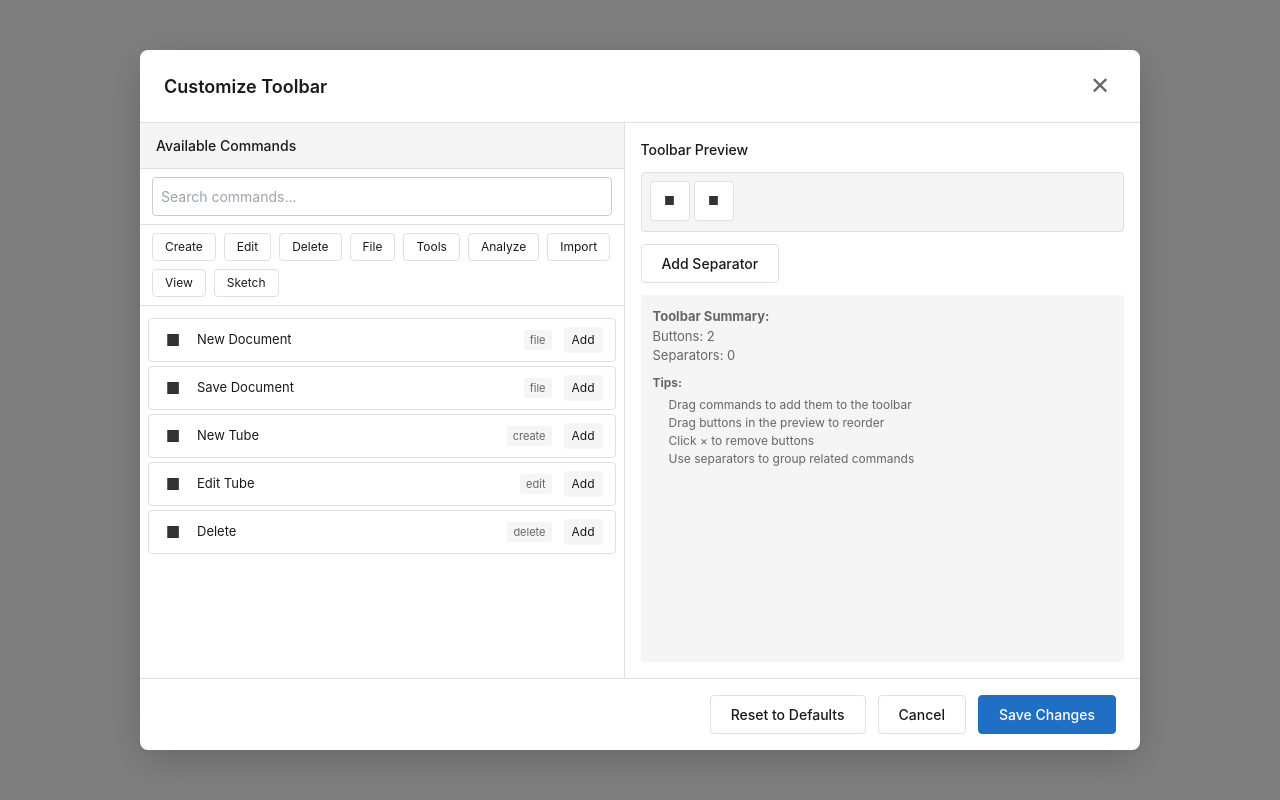
Test: ToolbarCustomizationDialog › Search Functionality › should filter commands by category
Click the button "File".
click(372, 247)  # box x1=350 y1=233 x2=395 y2=261
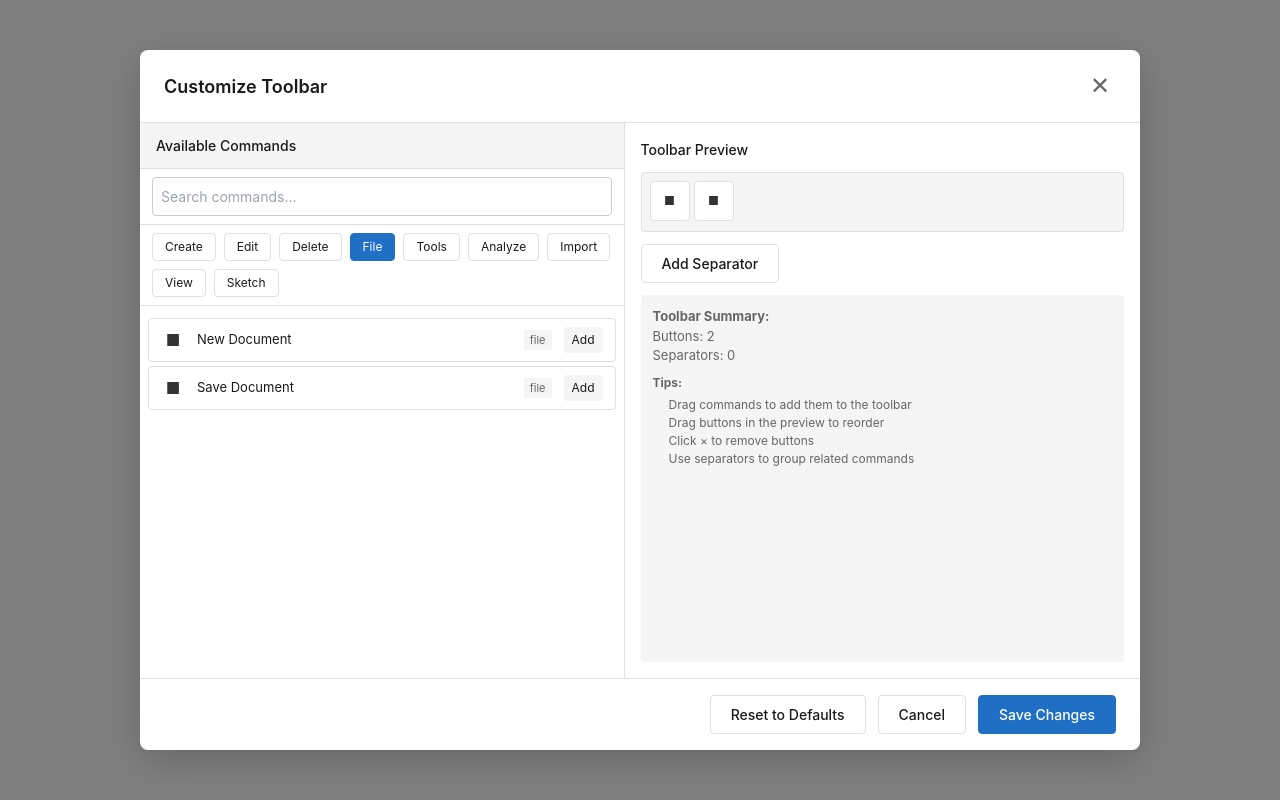
Expected: the text "New Document" is shown, x1=197 y1=331 x2=292 y2=347
Expected: the text "New Tube" is gone
